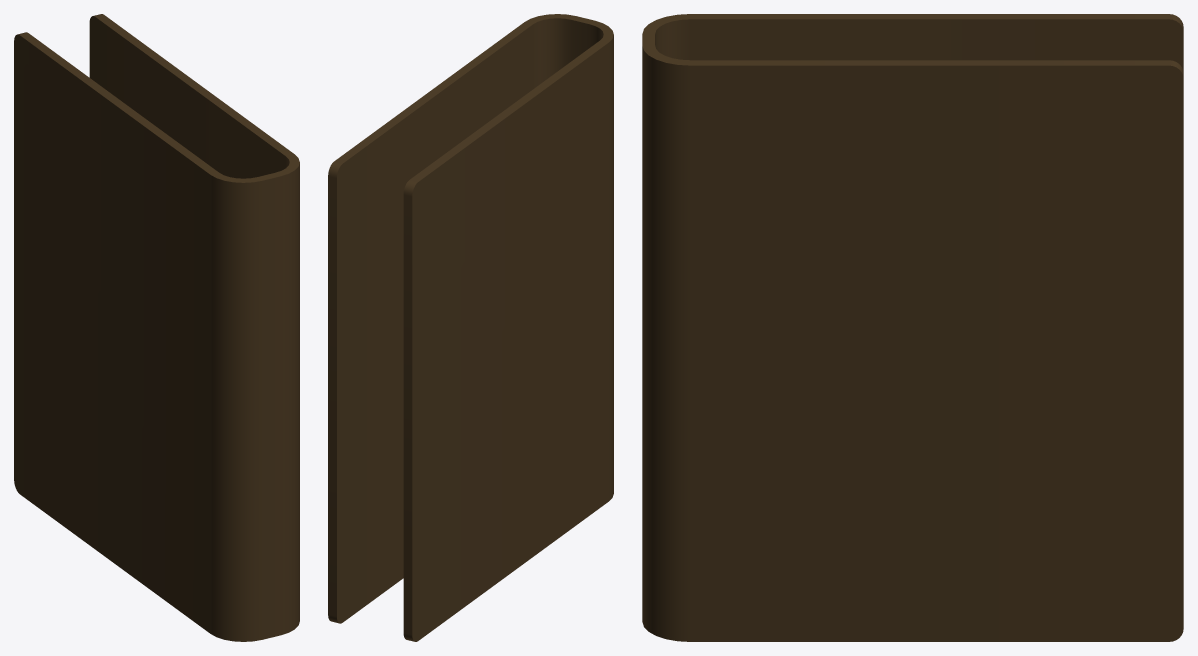
The model's file is bookCover.fbx.
The picture shows the model from 3 angles, left to right: view 1: azimuth 30°, elevation 25°; view 2: azimuth 150°, elevation 25°; view 3: azimuth 270°, elevation 25°; orthographic projection. The views are drawn at different scales.
Visible parts, largest first — view 1: Cube; view 2: Cube; view 3: Cube.
Part boxes in pixels (<box>): Cube: <box>14,14,299,641</box>; Cube: <box>328,14,613,641</box>; Cube: <box>642,14,1183,641</box>.
Size of the model in its own units: 38.4 by 200 by 170.
